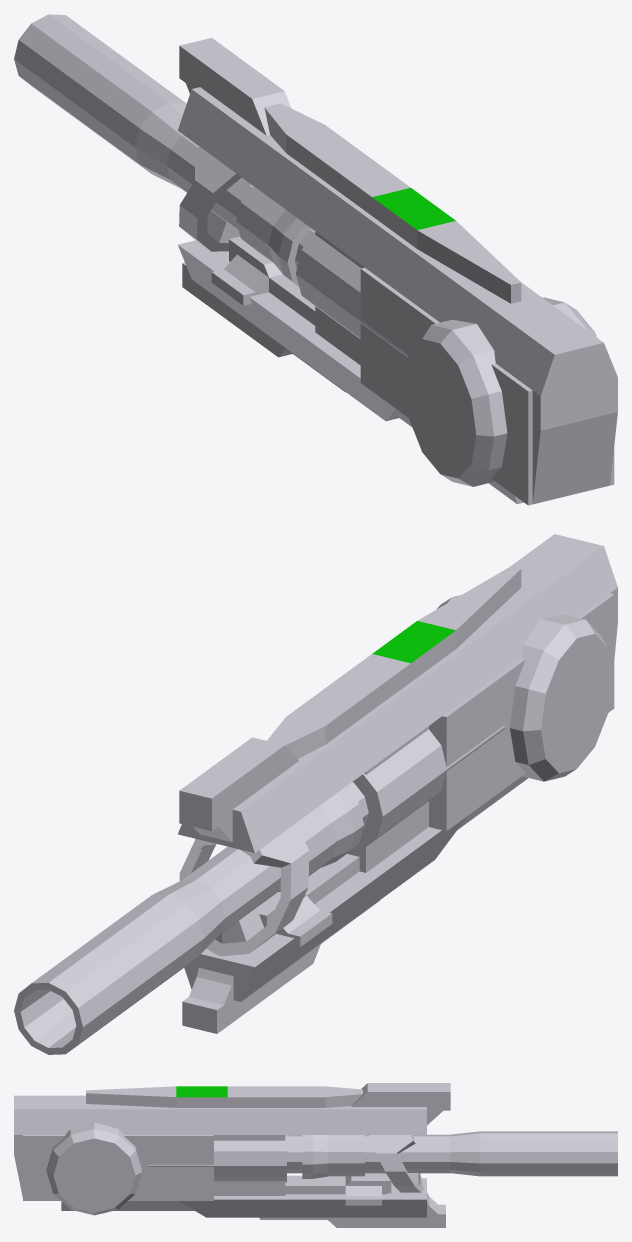
3 renders of one model, top to bottom at view 1: azimuth 30°, elevation 25°; view 2: azimuth 150°, elevation 25°; view 3: azimuth 270°, elevation 25°, orthographic. The views are drawn at different scales.
Parts seen in each view (by area): view 1: Cube.002; view 2: Cube.002; view 3: Cube.002.
Boxes of the visible parts, x1,y1,x2,y2 form: Cube.002: [14, 14, 617, 505]; Cube.002: [14, 534, 617, 1054]; Cube.002: [14, 1083, 617, 1227].
Size of the model in its own units: 0.2507 by 0.417 by 1.69.
